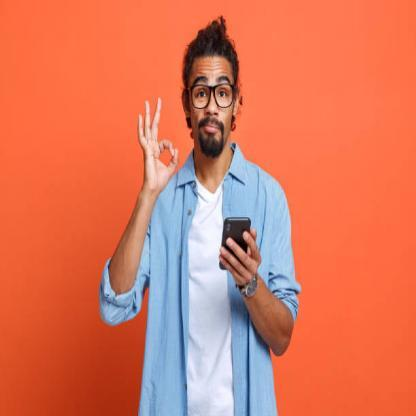ok: (136, 93, 180, 194)
